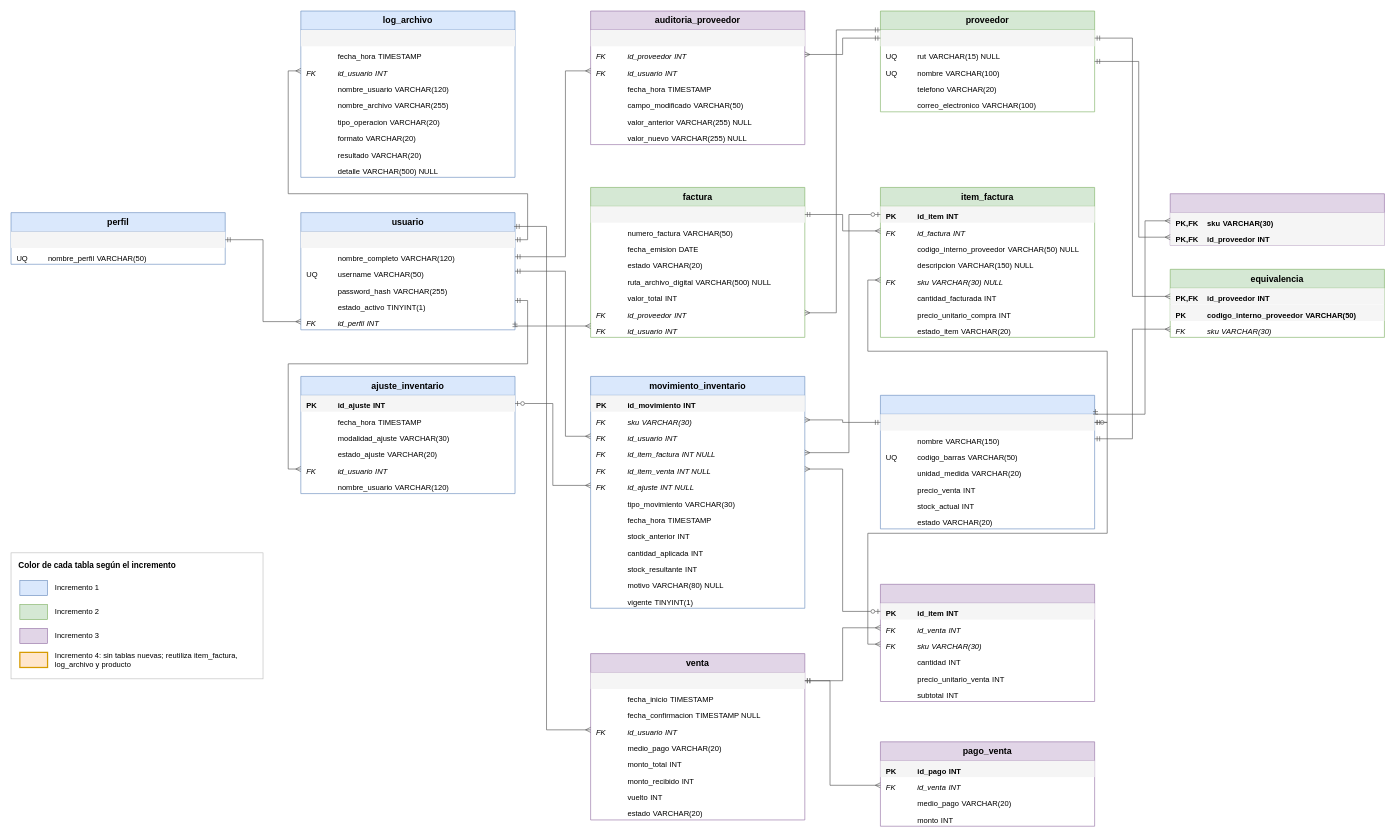
The diagram is 1395 pixels wide and 839 high, and some of its shapes have lost their labels. Here are the shapes that lost their labels. From the top down, the box of each, then its label:
(301, 30, 515, 46): PK id_log INT
(590, 30, 805, 46): PK id_auditoria INT
(880, 30, 1094, 46): PK id_proveedor INT
(590, 206, 805, 222): PK id_factura INT
(1170, 193, 1384, 245): producto_proveedor
(11, 231, 225, 248): PK id_perfil INT
(301, 231, 515, 248): PK id_usuario INT
(880, 414, 1094, 430): PK sku VARCHAR(30)
(880, 395, 1095, 529): producto
(880, 584, 1095, 702): item_venta
(590, 672, 805, 689): PK id_venta INT
